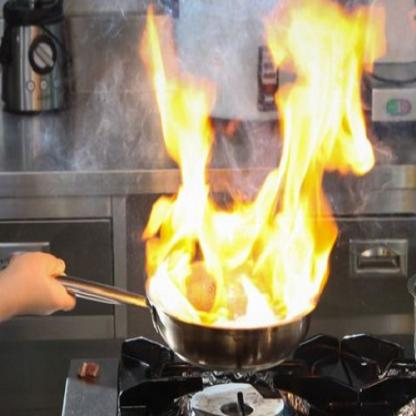fire: (133, 0, 391, 330)
smoke: (15, 0, 274, 196)
